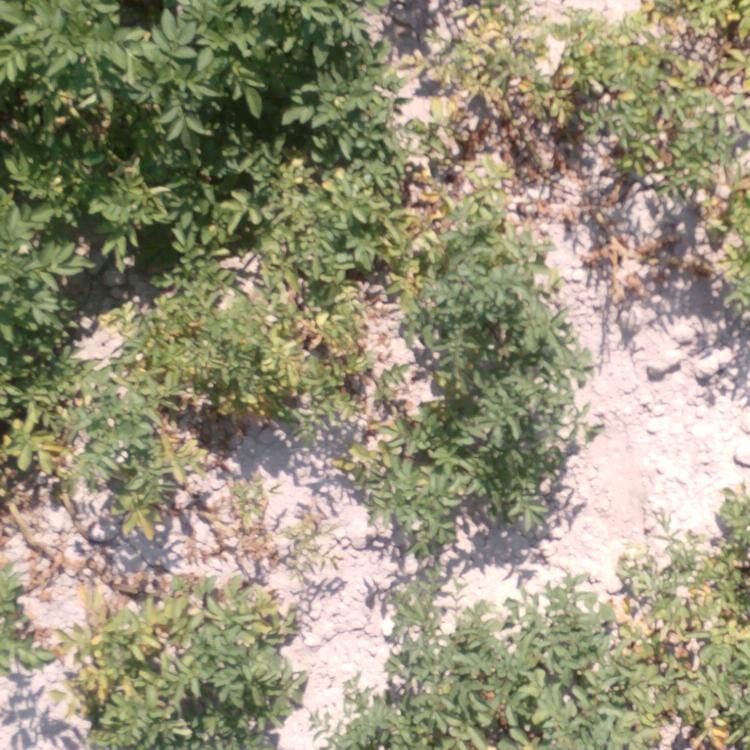healthy: (12, 8, 384, 142), (418, 237, 561, 537), (11, 151, 204, 344), (392, 622, 601, 742)
stressed: (235, 152, 399, 412), (410, 11, 632, 200), (12, 367, 228, 545), (79, 591, 282, 742), (645, 2, 747, 280), (624, 520, 741, 743)
